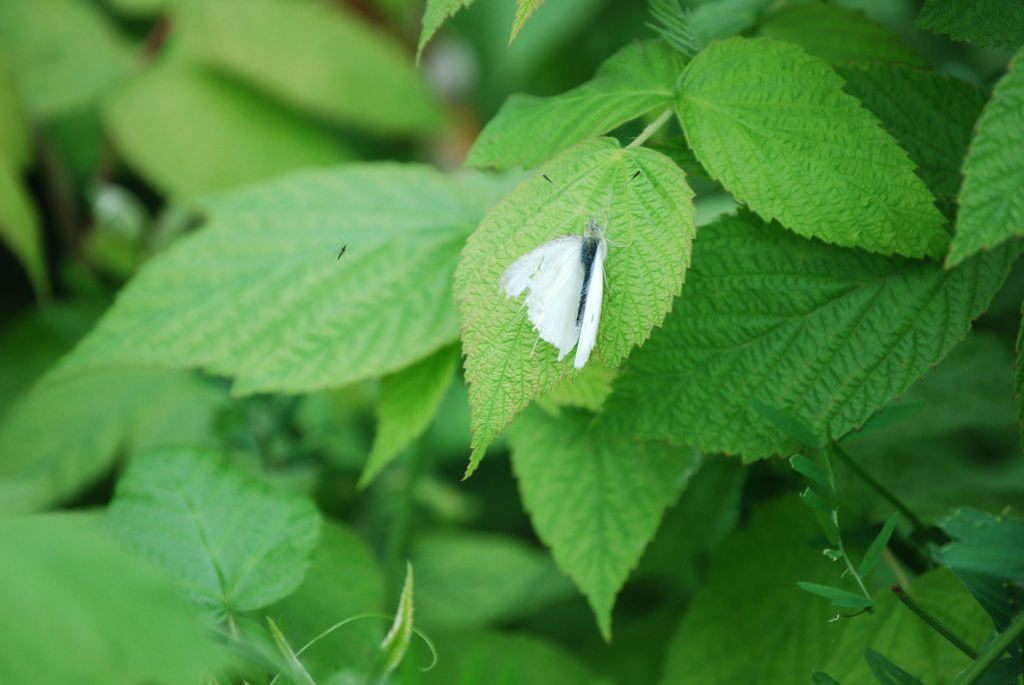Butterfly: (499, 224, 623, 366)
